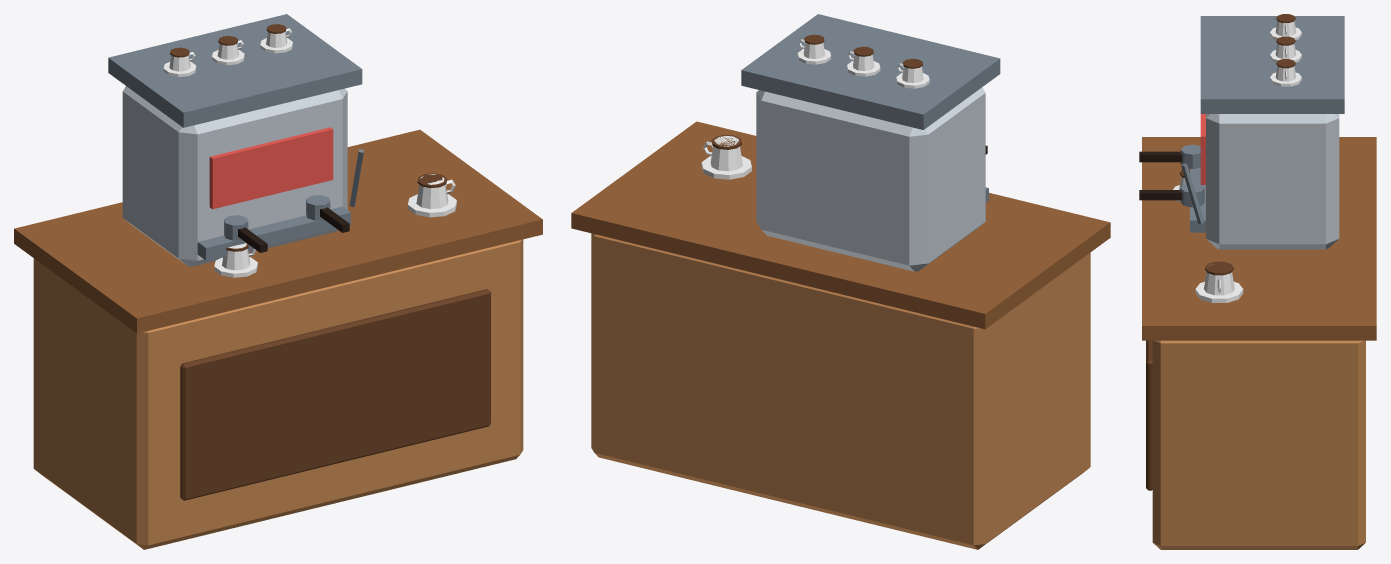
Rendered from station_coffee_machine.glb.
3 views of the same model, side by side, from view 1: azimuth 30°, elevation 25°; view 2: azimuth 150°, elevation 25°; view 3: azimuth 270°, elevation 25° (orthographic). The views are drawn at different scales.
Visible parts, largest first — view 1: station_coffee_machine; view 2: station_coffee_machine; view 3: station_coffee_machine.
Boxes of the visible parts, x1=… form: station_coffee_machine: x1=14, y1=14, x2=542, y2=549; station_coffee_machine: x1=571, y1=14, x2=1110, y2=549; station_coffee_machine: x1=1139, y1=14, x2=1376, y2=549.
Bounding box in the file's own units: 1.68 × 1.68 × 0.89.
